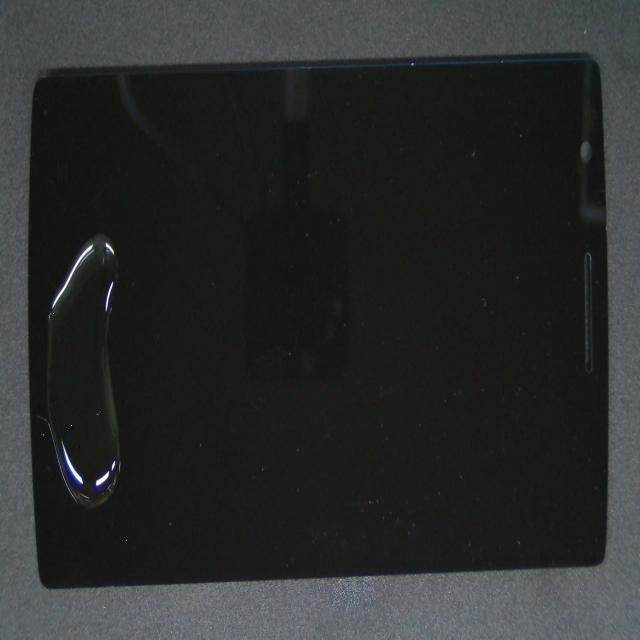oil: (71, 73, 105, 393)
